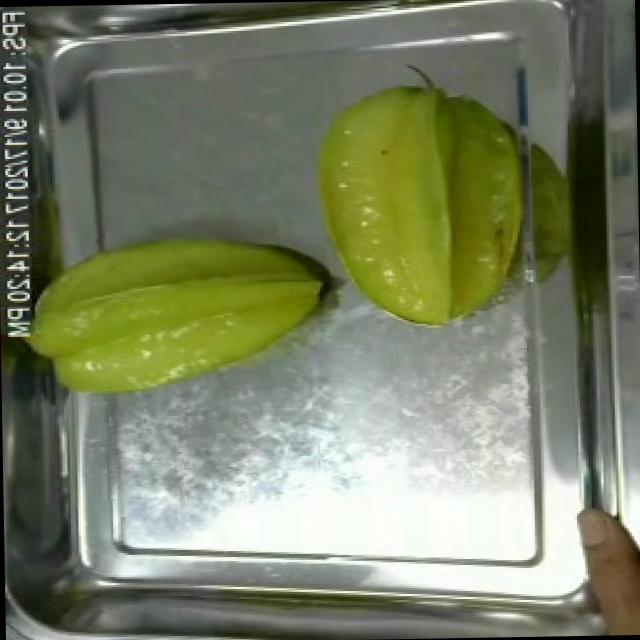fruit: (298, 64, 544, 338), (19, 212, 342, 404), (571, 496, 640, 635)
